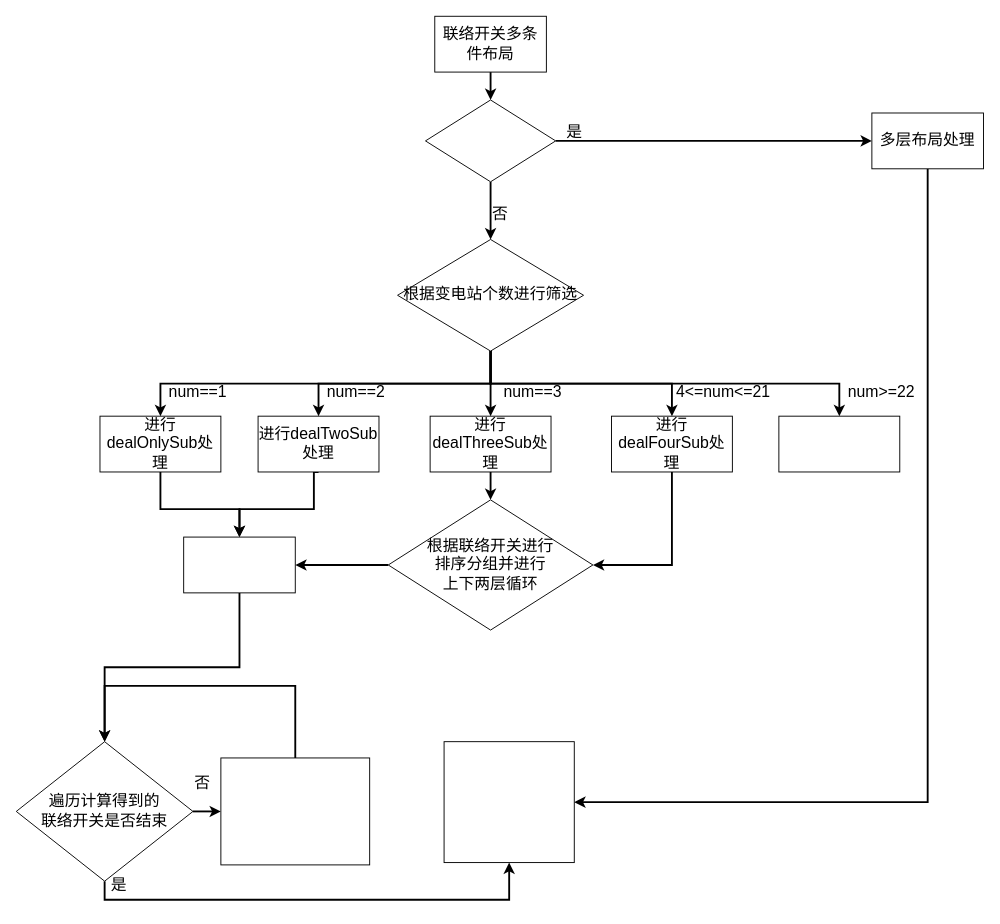
Some shapes in this 1000 by 924 pixel diagram are drawn without their labels. Here are the shapes that lost their labels. From the top down, the centre of each, then its label:
the point at 490,140: 是否多层布局
the point at 839,443: 随机位置交换
the point at 239,564: 根据计算得出x、y、offset、width
the point at 295,811: x进行累加计算，获取新x并给当前联络开关进行赋值，结束后执行addSet()方法
the point at 508,802: 结束
